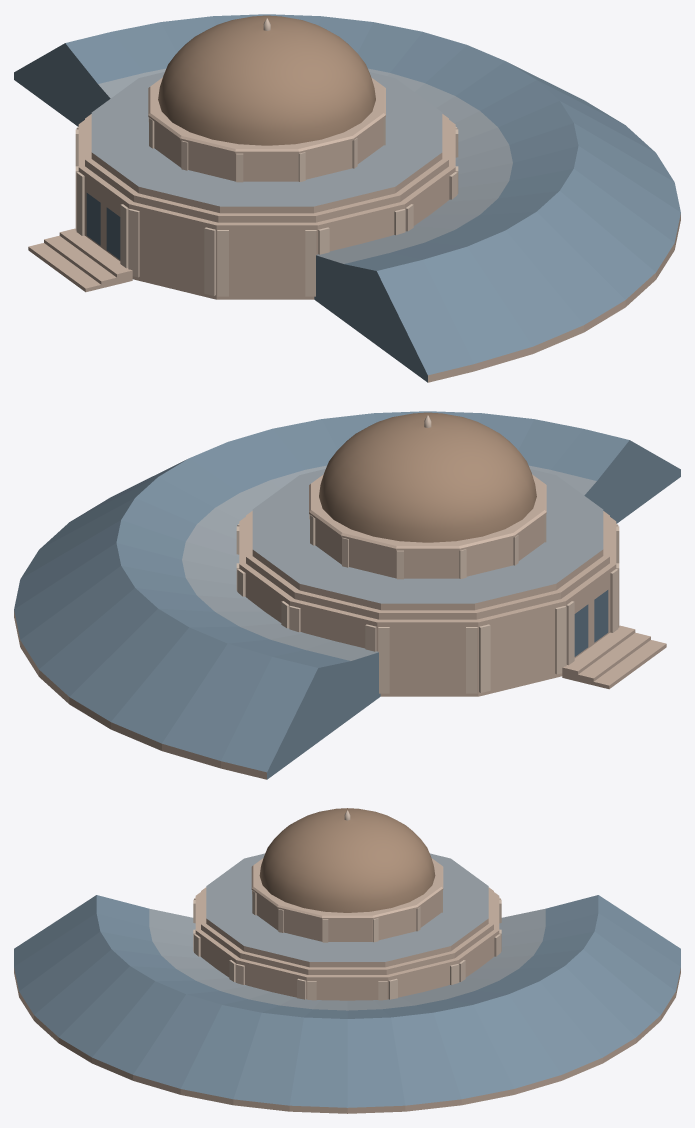
3 views of the same model, one above another, from view 1: azimuth 30°, elevation 25°; view 2: azimuth 150°, elevation 25°; view 3: azimuth 270°, elevation 25° (orthographic). The views are drawn at different scales.
Visible parts, largest first — view 1: adler-planetarium; view 2: adler-planetarium; view 3: adler-planetarium.
Boxes of the visible parts, <box> form: adler-planetarium: <box>14,14,680,382</box>; adler-planetarium: <box>14,411,680,779</box>; adler-planetarium: <box>14,808,680,1113</box>.
Size of the model in its own units: 80.1 by 27.15 by 101.
